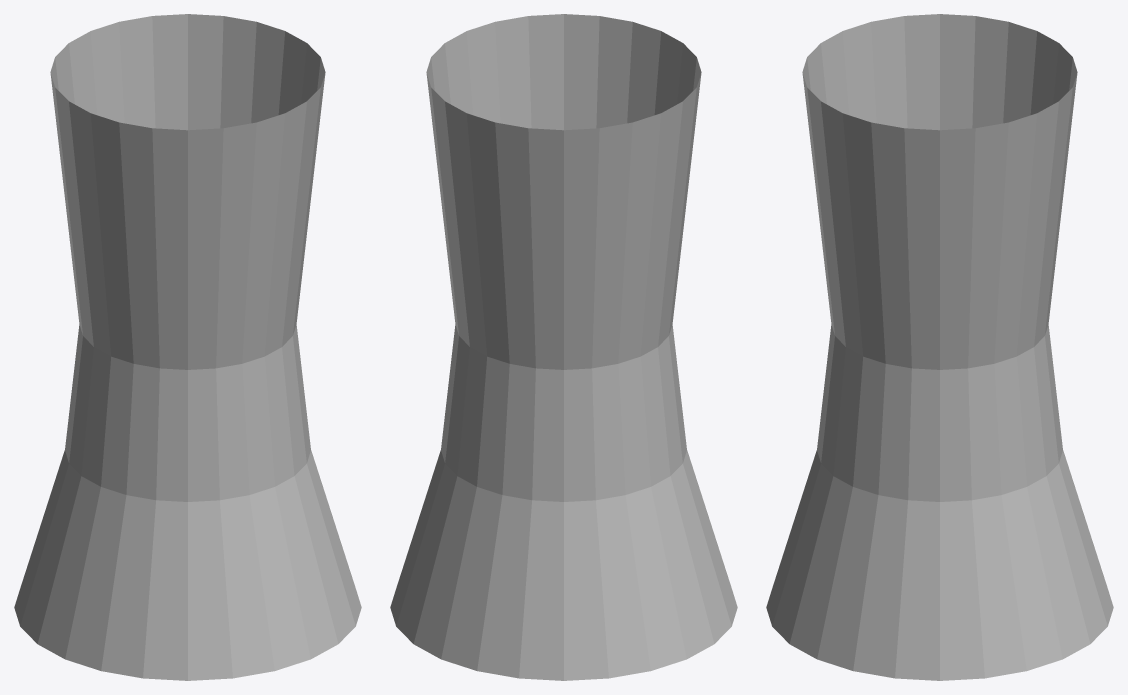
3 views of the same model, side by side, from view 1: azimuth 30°, elevation 25°; view 2: azimuth 150°, elevation 25°; view 3: azimuth 270°, elevation 25° (orthographic).
Bounding box in the file's own units: 0.48 × 0.816 × 0.48.
Materials: 1 (1 with a texture image).
